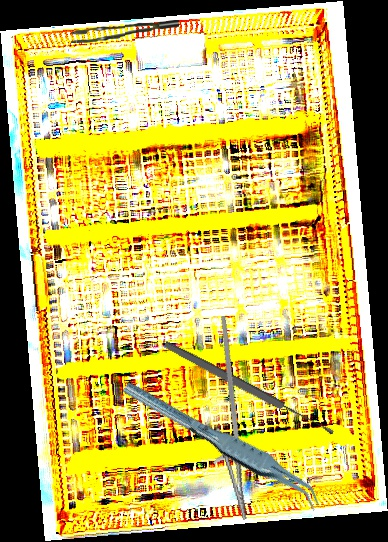Needle Holder: (180, 315, 273, 524)
Surgical Spoon: (162, 339, 336, 438)
Tissue Forceps: (121, 360, 326, 528), (70, 19, 180, 44)
